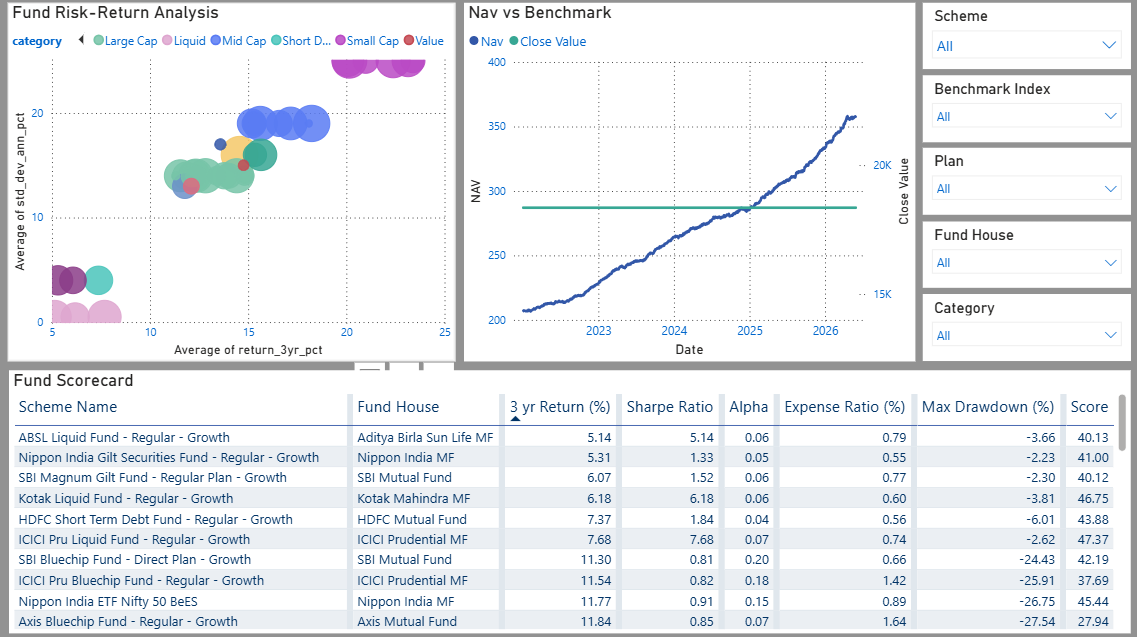

This screenshot's page, from the dashboard's own definition file:
{"tool":"powerbi","page":{"name":"Fund Performance","canvas":[1280,720],"ordinal":1},"visuals":[{"type":"scatterChart","title":"Fund Risk-Return Analysis","fields":{"X":["Avg(clean_performance.return_3yr_pct)"],"Y":["Avg(clean_performance.std_dev_ann_pct)"],"Series":["clean_performance.category"],"Size":["Avg(clean_performance.aum_crore)"],"Category":["clean_performance.scheme_name"]},"box":[9.6,4.1,502.2,402.1],"z":0},{"type":"tableEx","title":"Fund Scorecard","fields":{"Values":["fund_scorecard.scheme_name","fund_scorecard.fund_house","fund_scorecard.return_3yr_pct","fund_scorecard.sharpe_ratio","fund_scorecard.alpha","fund_scorecard.expense_ratio_pct","fund_scorecard.max_drawdown_pct","fund_scorecard.composite_score"]},"box":[11,415.8,1258.3,295],"z":1000},{"type":"actionButton","box":[0.6,4.6,100,40],"z":2000},{"type":"lineChart","title":"Nav vs Benchmark","fields":{"Y":["Avg(clean_nav.nav)"],"Category":["clean_nav.date"],"Y2":["Avg(10_benchmark_indices.close_value)"]},"box":[521.4,4.1,506.3,402.1],"z":3000},{"type":"slicer","fields":{"Values":["01_fund_master.scheme_name"]},"box":[1036,4.1,233.3,74.1],"z":4000},{"type":"slicer","fields":{"Values":["10_benchmark_indices.index_name"]},"box":[1036,85.1,233.3,75.5],"z":5000},{"type":"slicer","fields":{"Values":["01_fund_master.plan"]},"box":[1036,167.4,233.3,75.5],"z":6000},{"type":"slicer","fields":{"Values":["01_fund_master.fund_house"]},"box":[1036,249.7,233.3,74.1],"z":7000},{"type":"slicer","fields":{"Values":["01_fund_master.category"]},"box":[1036,330.7,233.3,75.5],"z":8000}]}

Visuals, with their boxes in screenshot pixels (x1, y1, x2, y2), scaled from the page's 1280x720 canvas onto the 1137x637 screenshot:
"Fund Risk-Return Analysis" scatterChart: <box>9,4,455,359</box>
"Fund Scorecard" tableEx: <box>10,368,1127,629</box>
actionButton: <box>1,4,89,39</box>
"Nav vs Benchmark" lineChart: <box>463,4,913,359</box>
slicer - 01_fund_master.scheme_name: <box>920,4,1127,69</box>
slicer - 10_benchmark_indices.index_name: <box>920,75,1127,142</box>
slicer - 01_fund_master.plan: <box>920,148,1127,215</box>
slicer - 01_fund_master.fund_house: <box>920,221,1127,286</box>
slicer - 01_fund_master.category: <box>920,293,1127,359</box>
